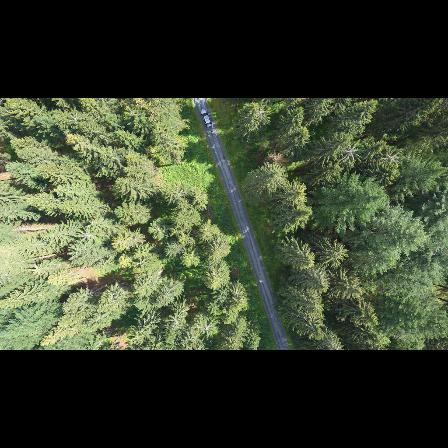Sick: (377, 146, 402, 170), (340, 139, 361, 165), (76, 224, 99, 246), (197, 315, 216, 340), (167, 312, 186, 333)
